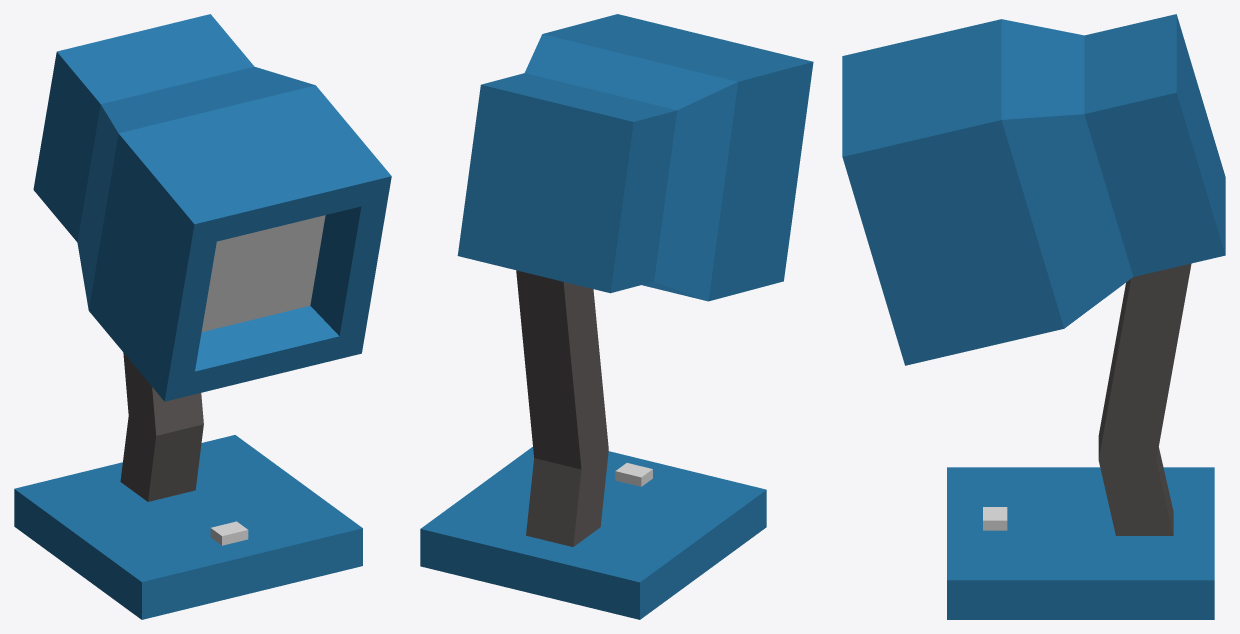
3 renders of one model, left to right at view 1: azimuth 30°, elevation 25°; view 2: azimuth 150°, elevation 25°; view 3: azimuth 270°, elevation 25°, orthographic. The views are drawn at different scales.
Visible parts, largest first — view 1: taideng:polySurface429; view 2: taideng:polySurface429; view 3: taideng:polySurface429.
Part boxes in pixels (x1,y1,x2,y2): taideng:polySurface429: [14, 14, 391, 619]; taideng:polySurface429: [420, 14, 813, 619]; taideng:polySurface429: [842, 14, 1225, 619].
Bounding box in the file's own units: 11.08 × 23.09 × 15.87.
